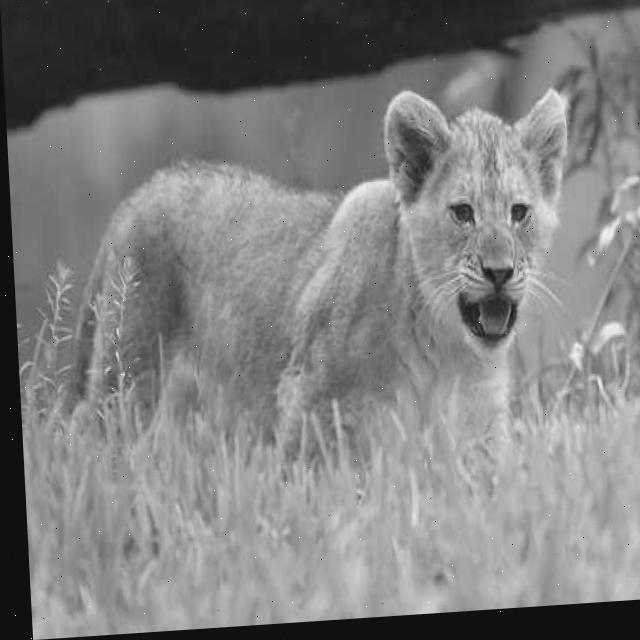Lion: (167, 63, 608, 505)
